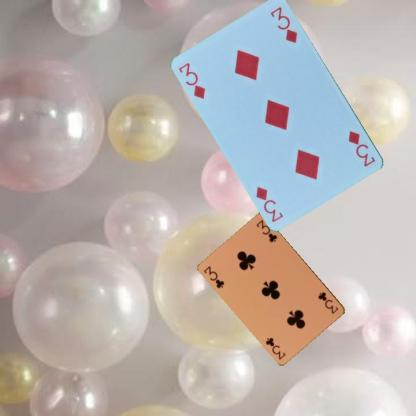3c: (315, 289, 340, 315), (202, 264, 226, 290)
3d: (176, 60, 207, 101), (346, 128, 376, 168)
